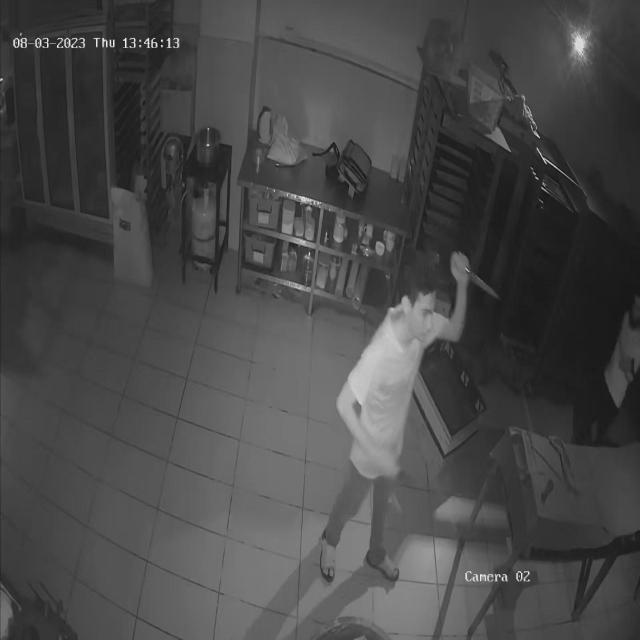Knife: (451, 248, 505, 305)
